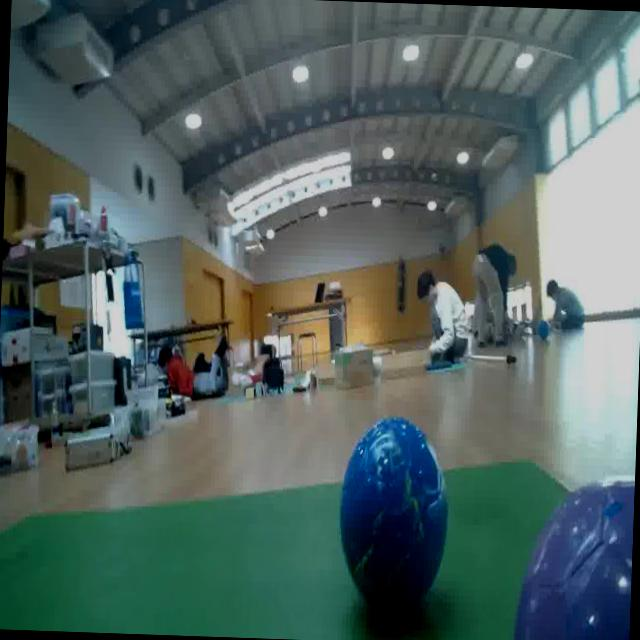blue_ball: (336, 417, 450, 607), (538, 318, 550, 339)
purple_ball: (511, 468, 635, 640)
